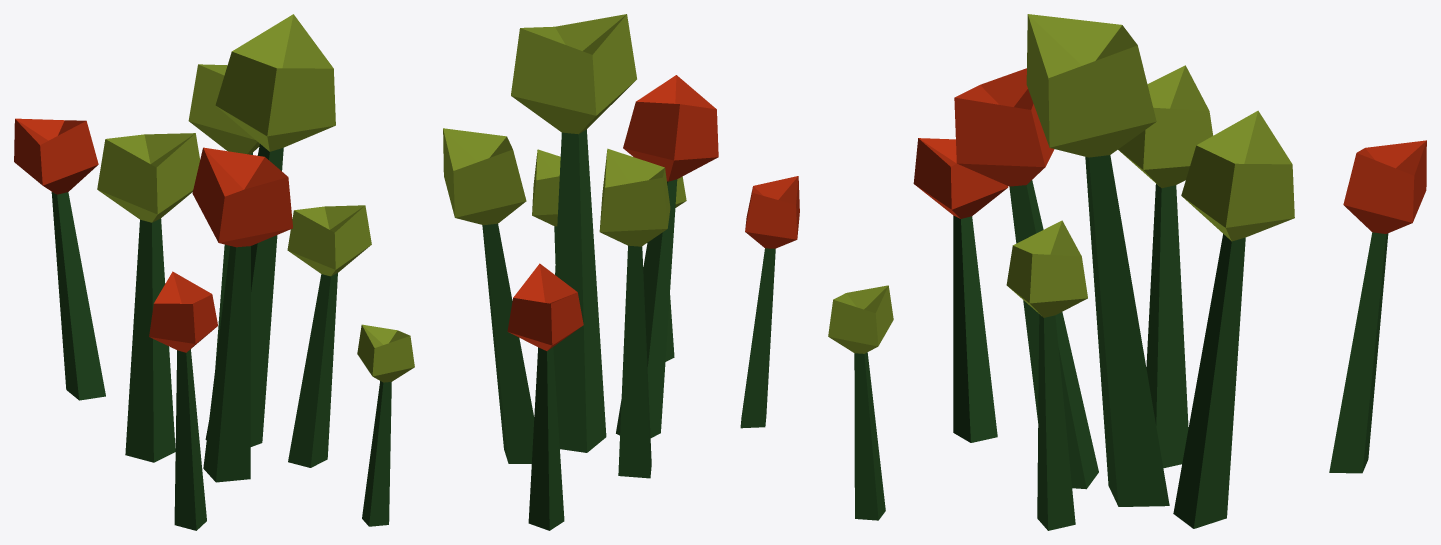
The model's file is flower1.FBX.
3 views of the same model, side by side, from view 1: azimuth 30°, elevation 25°; view 2: azimuth 150°, elevation 25°; view 3: azimuth 270°, elevation 25° (orthographic). The views are drawn at different scales.
Parts seen in each view (by area): view 1: flower1; view 2: flower1; view 3: flower1.
Boxes of the visible parts, x1,y1,x2,y2 form: flower1: (14,14,414,530); flower1: (443,14,799,530); flower1: (828,14,1426,530).
Size of the model in its own units: 19.74 by 34.01 by 30.59.
